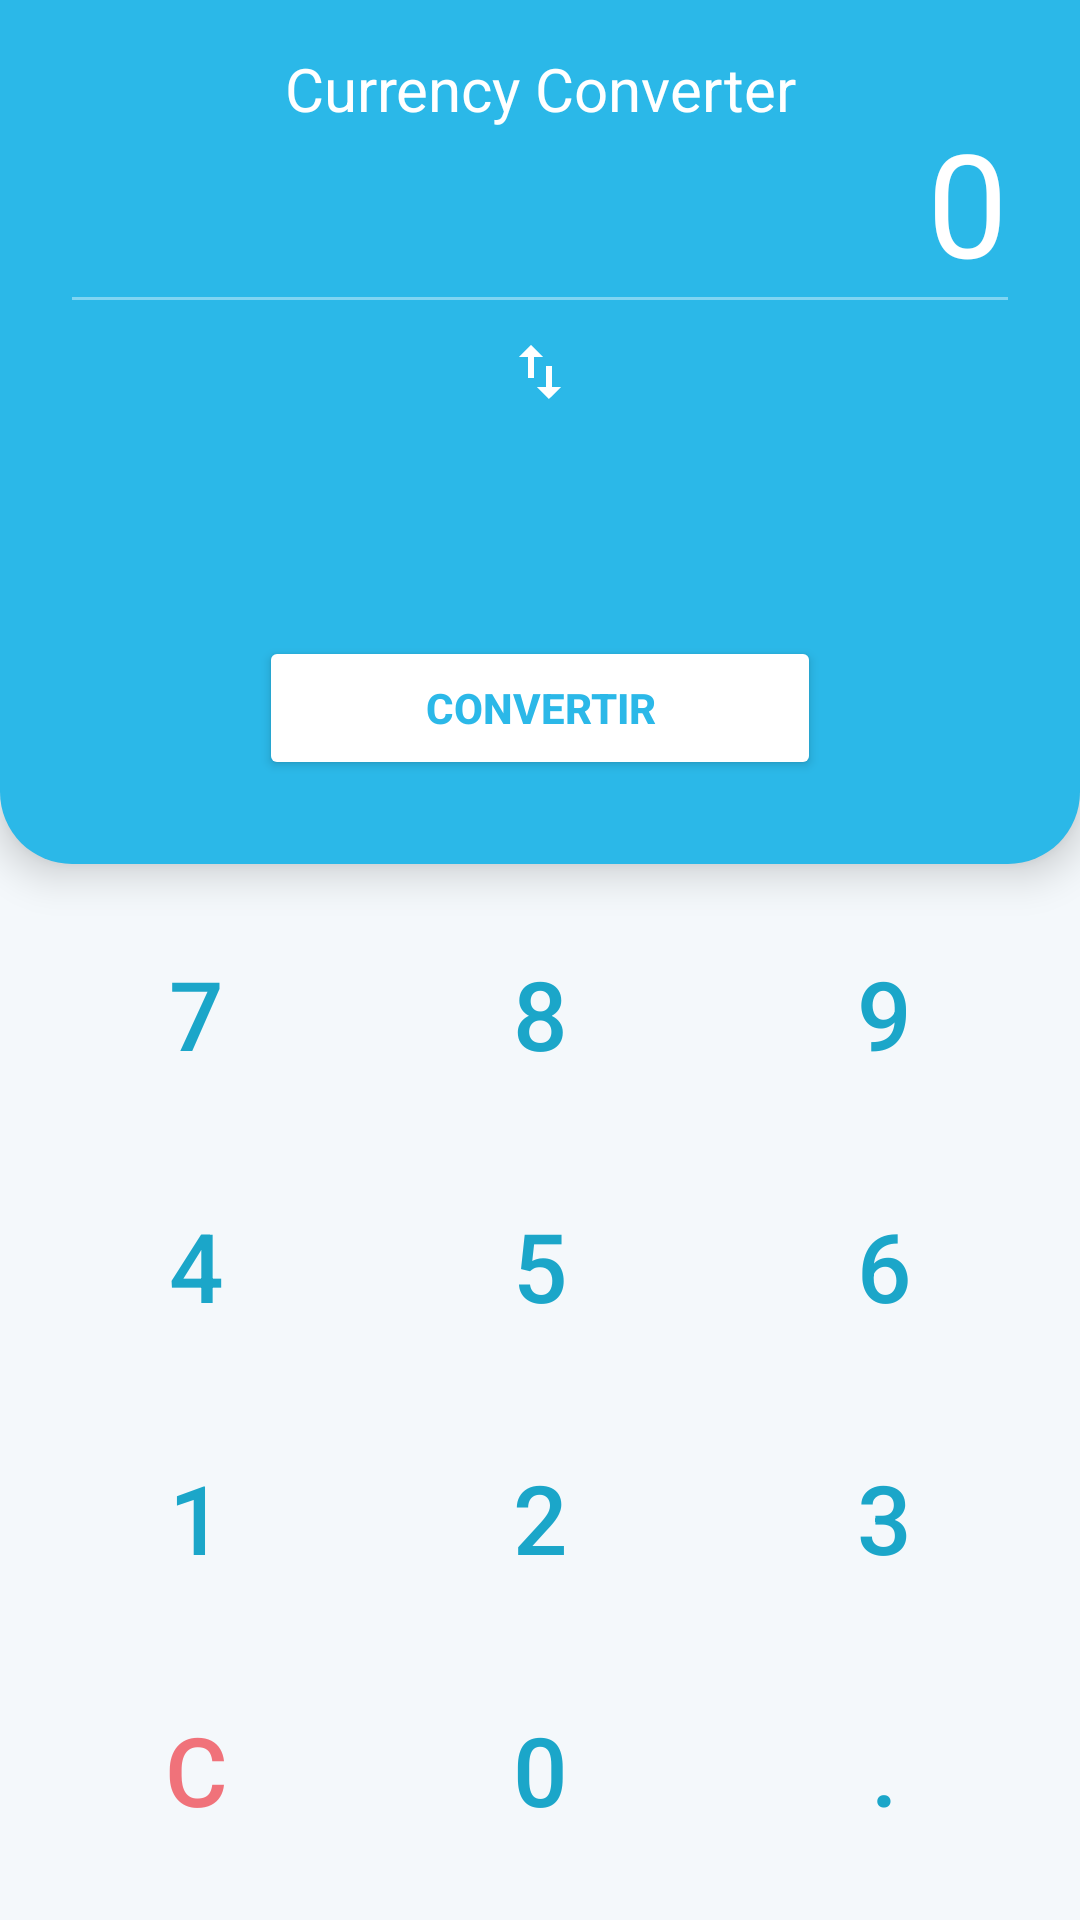

Where to tap for icons on this 1080×1920 app screen, as [x,y]:
Inverser les devises: [540,372]
